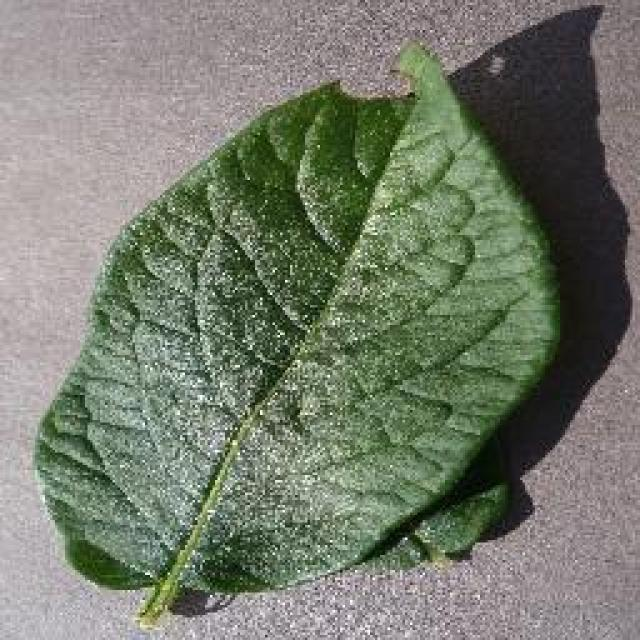Potato___healthy: (32, 40, 565, 633)
